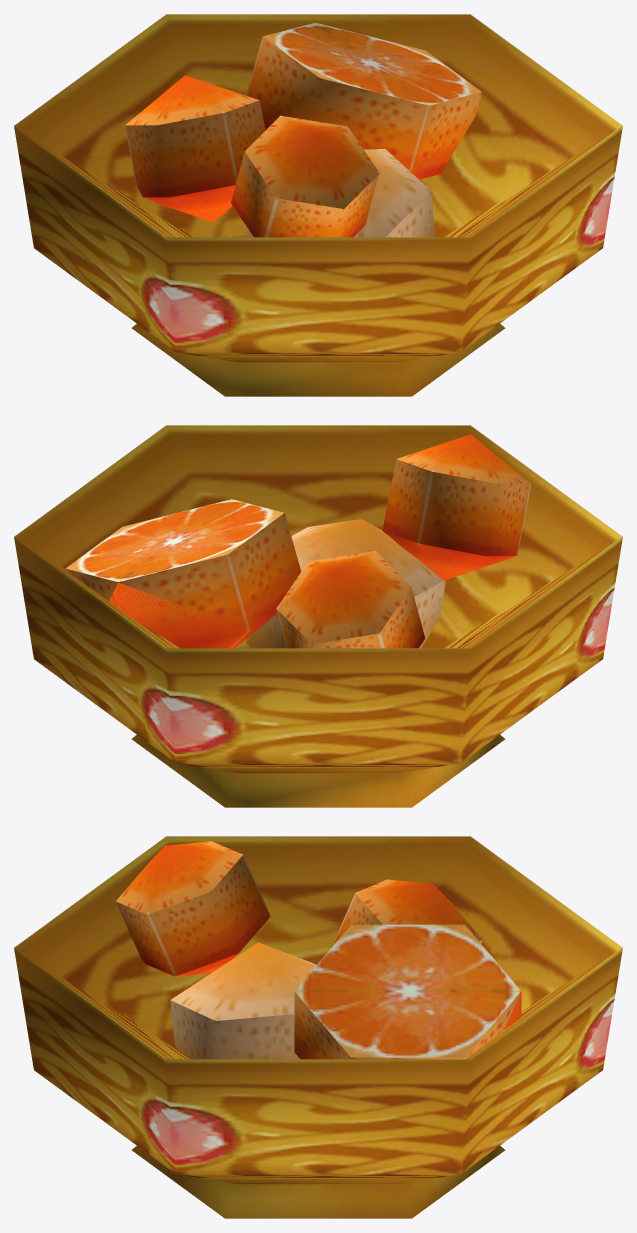
Rendered from goldfruitbowl01.obj.
3 views of the same model, one above another, from view 1: azimuth 30°, elevation 25°; view 2: azimuth 150°, elevation 25°; view 3: azimuth 270°, elevation 25° (orthographic).
Visible parts, largest first — view 1: goldfruitbowl01.m2; view 2: goldfruitbowl01.m2; view 3: goldfruitbowl01.m2.
Boxes of the visible parts, x1,y1,x2,y2 form: goldfruitbowl01.m2: [14, 14, 622, 396]; goldfruitbowl01.m2: [14, 425, 622, 807]; goldfruitbowl01.m2: [14, 836, 622, 1218].
Bounding box in the file's own units: 1.12 × 0.625 × 1.29.
Materials: 1 (1 with a texture image).
